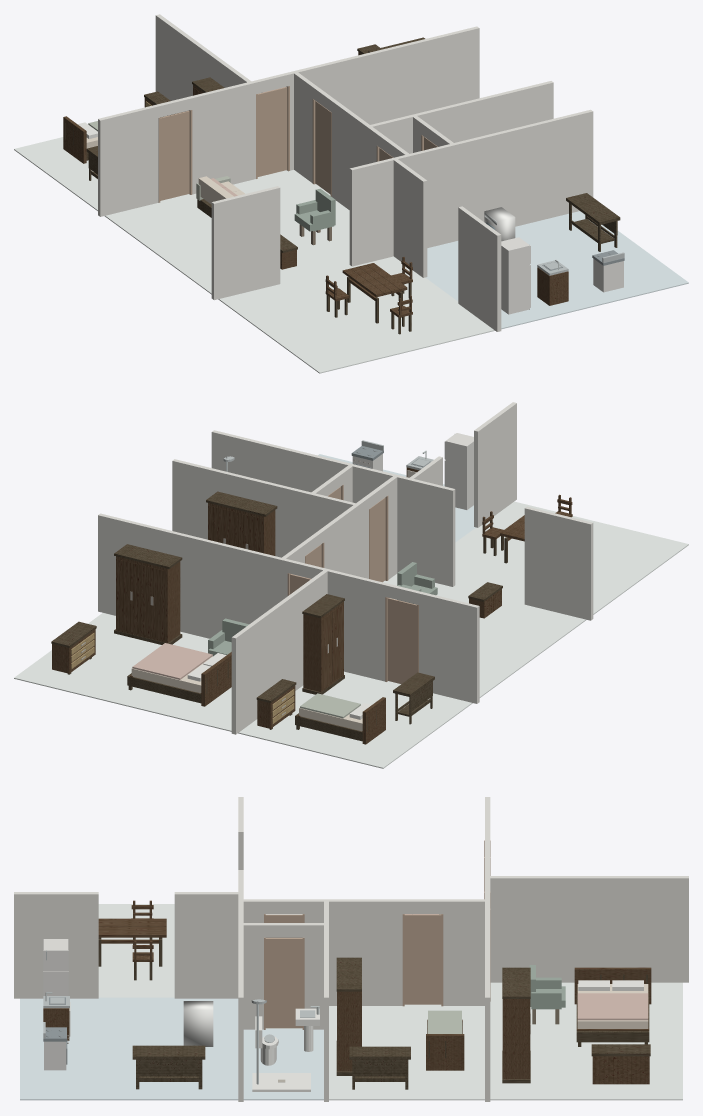
The picture shows the model from 3 angles, top to bottom: view 1: azimuth 30°, elevation 25°; view 2: azimuth 150°, elevation 25°; view 3: azimuth 270°, elevation 25°; orthographic projection. The views are drawn at different scales.
Visible parts, largest first — view 1: H23_WALL_05, H23_FLOOR_03_COPA, H23_WALL_02, H23_FLOOR_02_SALA, H23_FLOOR_04_COZINHA_SERVICO, H23_WALL_04, H23_WALL_00, H23_WALL_01, H23_WALL_11, H23_WALL_07, H23_WALL_03, H23_WALL_06 (+13 smaller); view 2: H23_WALL_02, H23_WALL_05, H23_FLOOR_03_COPA, H23_FLOOR_01_QUARTO_1, H23_FLOOR_00_QUARTO_2, H23_WALL_11, H23_WALL_03, H23_WALL_04, H23_FLOOR_02_SALA, H23_WALL_00, H23_WALL_01, H23_WALL_07 (+30 smaller); view 3: H23_WALL_03, H23_FLOOR_04_COZINHA_SERVICO, H23_FLOOR_01_QUARTO_1, H23_FLOOR_05_QUARTO_3_REVERSIVEL, H23_WALL_07, H23_WALL_09, H23_WALL_06, H23_FLOOR_03_COPA, H23_WALL_08, H23_FLOOR_07_BANHEIRO, H23_DOOR_02_LEAF, H23_DOOR_04_LEAF (+33 smaller).
Boxes of the visible parts, x1=… form: H23_WALL_05: x1=349, y1=109, x2=593, y2=266; H23_FLOOR_03_COPA: x1=218, y1=256, x2=494, y2=373; H23_WALL_02: x1=287, y1=26, x2=479, y2=170; H23_FLOOR_02_SALA: x1=104, y1=170, x2=350, y2=294; H23_FLOOR_04_COZINHA_SERVICO: x1=425, y1=211, x2=688, y2=329; H23_WALL_04: x1=211, y1=186, x2=280, y2=300; H23_WALL_00: x1=98, y1=104, x2=159, y2=216; H23_WALL_01: x1=189, y1=81, x2=256, y2=194; H23_WALL_11: x1=368, y1=81, x2=553, y2=153; H23_WALL_07: x1=458, y1=206, x2=501, y2=331; H23_WALL_03: x1=155, y1=14, x2=252, y2=111; H23_WALL_06: x1=393, y1=159, x2=427, y2=277; H23_WALL_02: x1=98, y1=513, x2=290, y2=638; H23_WALL_05: x1=211, y1=430, x2=455, y2=586; H23_FLOOR_03_COPA: x1=454, y1=501, x2=688, y2=614; H23_FLOOR_01_QUARTO_1: x1=14, y1=613, x2=231, y2=731; H23_FLOOR_00_QUARTO_2: x1=238, y1=671, x2=472, y2=768; H23_WALL_11: x1=172, y1=459, x2=357, y2=557; H23_WALL_03: x1=231, y1=570, x2=327, y2=734; H23_WALL_04: x1=524, y1=506, x2=593, y2=620; H23_FLOOR_02_SALA: x1=383, y1=574, x2=586, y2=697; H23_WALL_00: x1=418, y1=591, x2=479, y2=703; H23_WALL_01: x1=321, y1=568, x2=388, y2=681; H23_WALL_07: x1=474, y1=402, x2=516, y2=527; H23_WALL_03: x1=487, y1=876, x2=688, y2=982; H23_FLOOR_04_COZINHA_SERVICO: x1=20, y1=997, x2=238, y2=1100; H23_FLOOR_01_QUARTO_1: x1=490, y1=982, x2=682, y2=1100; H23_FLOOR_05_QUARTO_3_REVERSIVEL: x1=329, y1=1005, x2=484, y2=1100; H23_WALL_07: x1=14, y1=892, x2=98, y2=998; H23_WALL_09: x1=303, y1=899, x2=403, y2=1005; H23_WALL_06: x1=174, y1=892, x2=240, y2=998; H23_FLOOR_03_COPA: x1=98, y1=904, x2=174, y2=997; H23_WALL_08: x1=442, y1=899, x2=487, y2=1005; H23_FLOOR_07_BANHEIRO: x1=243, y1=1028, x2=323, y2=1100; H23_DOOR_02_LEAF: x1=404, y1=914, x2=441, y2=1004; H23_DOOR_04_LEAF: x1=265, y1=938, x2=302, y2=1028.
Bounding box in the file's own units: 10.01 × 2.46 × 14.24.
Materials: 21 (3 with a texture image).
